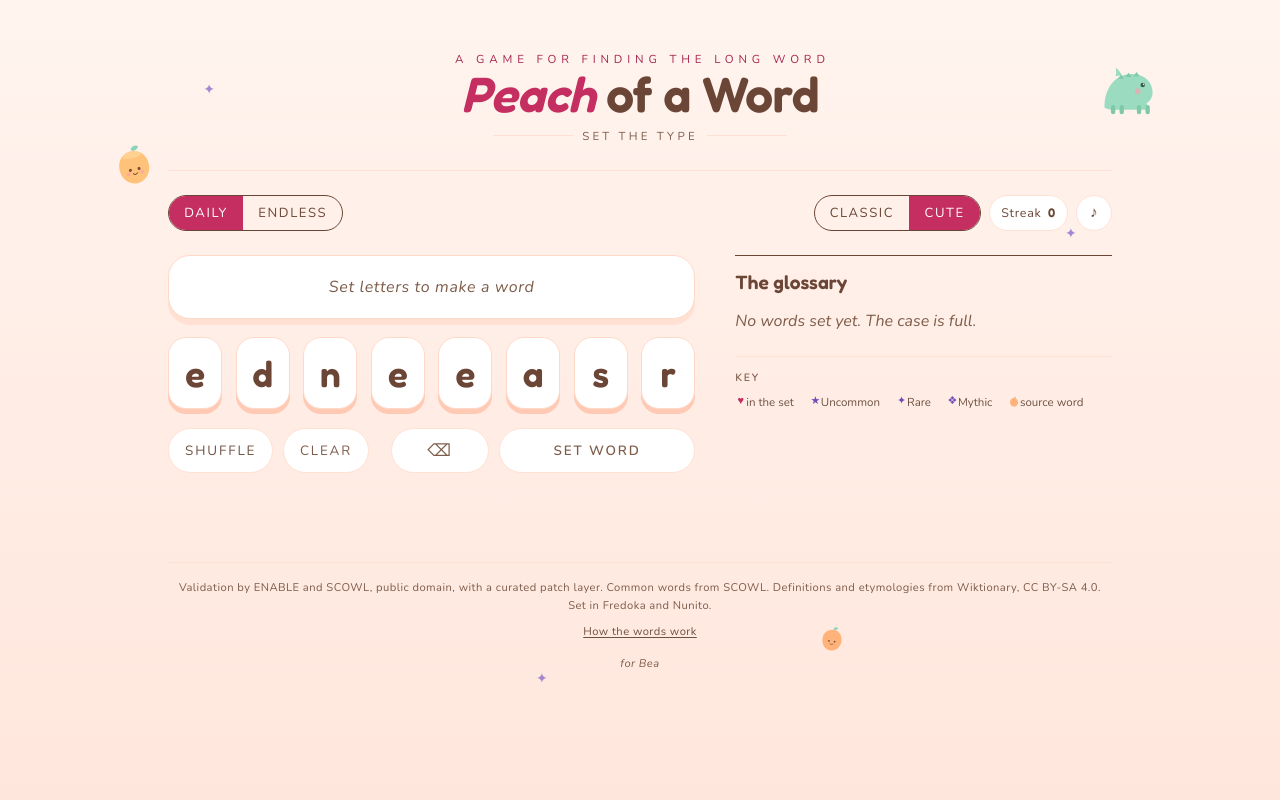
it: Game › toggles mute
Click the button named "mute sound" at (1094, 213), box [1076, 195, 1112, 231]
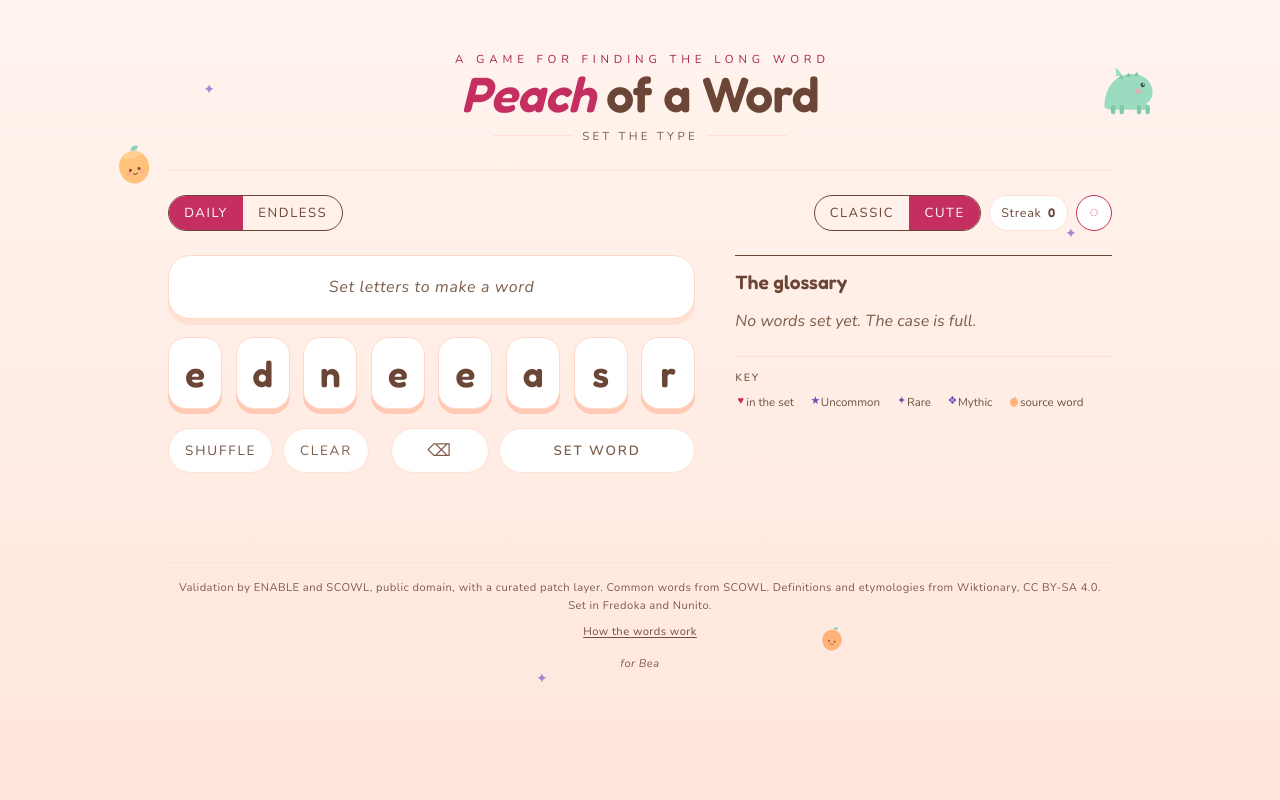
expect the button named "unmute sound" is shown: met, box [1076, 195, 1112, 231]
